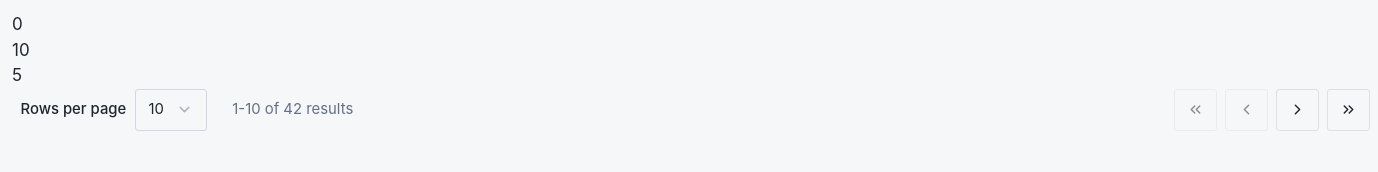
Test: usePaginationTable › jumps to the last page using the supplied pageCount
The image size is (1378, 172).
Step 1. Click the 4th button named "go to last page" → click(1348, 110), box [1327,88,1370,131]
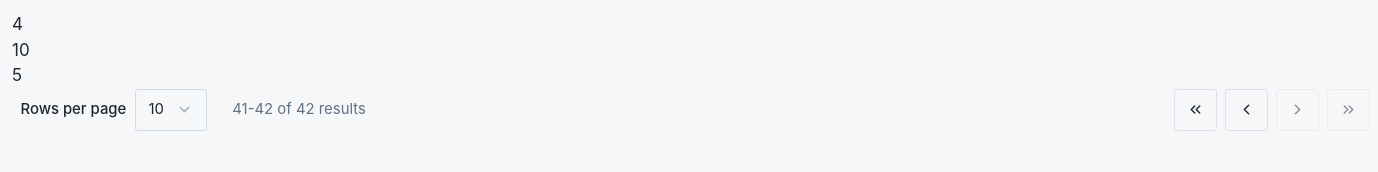
Check: the text with test id "page-index" reads "4", box [12,14,23,34]
